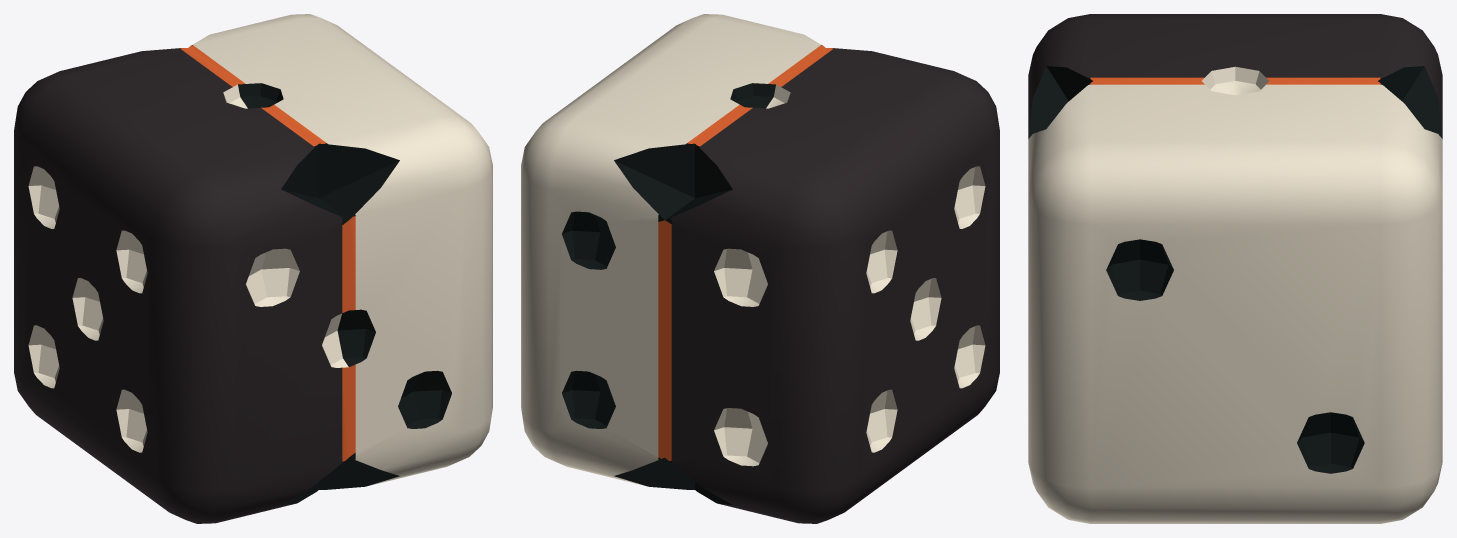
The model's file is twin_flame_d6.glb.
3 renders of one model, left to right at view 1: azimuth 30°, elevation 25°; view 2: azimuth 150°, elevation 25°; view 3: azimuth 270°, elevation 25°, orthographic. The views are drawn at different scales.
Visible parts, largest first — view 1: TwinFlameD6; view 2: TwinFlameD6; view 3: TwinFlameD6.
Boxes of the visible parts, <box> form: TwinFlameD6: <box>14,14,492,523</box>; TwinFlameD6: <box>521,14,999,523</box>; TwinFlameD6: <box>1028,14,1442,523</box>.
Bounding box in the file's own units: 0.08 × 0.08 × 0.08.
